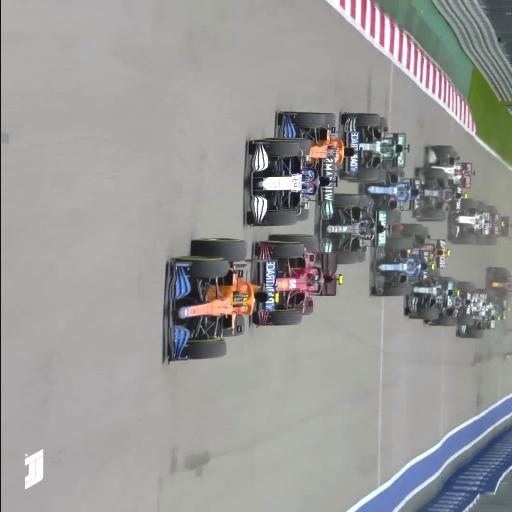f1_car: (164, 238, 268, 363), (252, 234, 342, 326), (247, 138, 333, 227), (278, 112, 354, 201), (318, 194, 391, 265), (339, 113, 409, 183), (371, 236, 435, 297), (360, 169, 422, 224), (414, 167, 466, 222), (393, 224, 450, 269), (404, 275, 458, 320), (424, 278, 471, 326), (456, 289, 501, 339), (426, 145, 475, 189), (449, 199, 491, 245), (477, 206, 512, 246), (486, 267, 512, 304), (300, 211, 307, 218), (271, 294, 274, 301), (268, 262, 275, 263), (460, 283, 462, 286), (462, 287, 463, 288)
